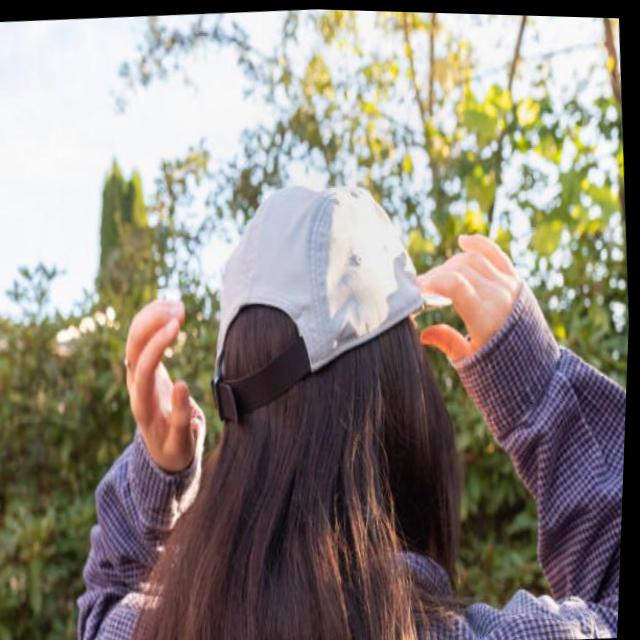no helmet: (188, 163, 510, 598)
